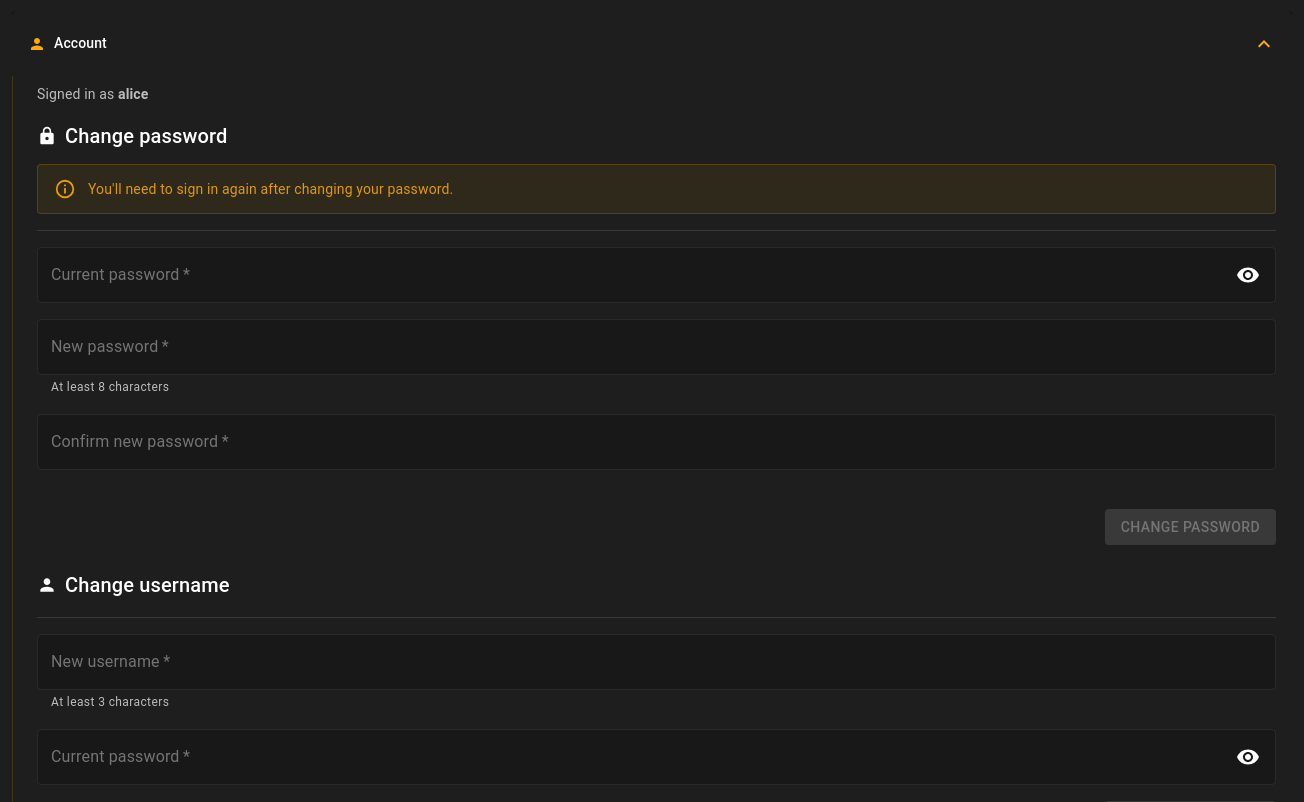
Scenario: AccountAccordion › clicking show password again hides the password again
Click the 1st button named "show password".
click(1248, 275)  # box [1231,258,1265,292]
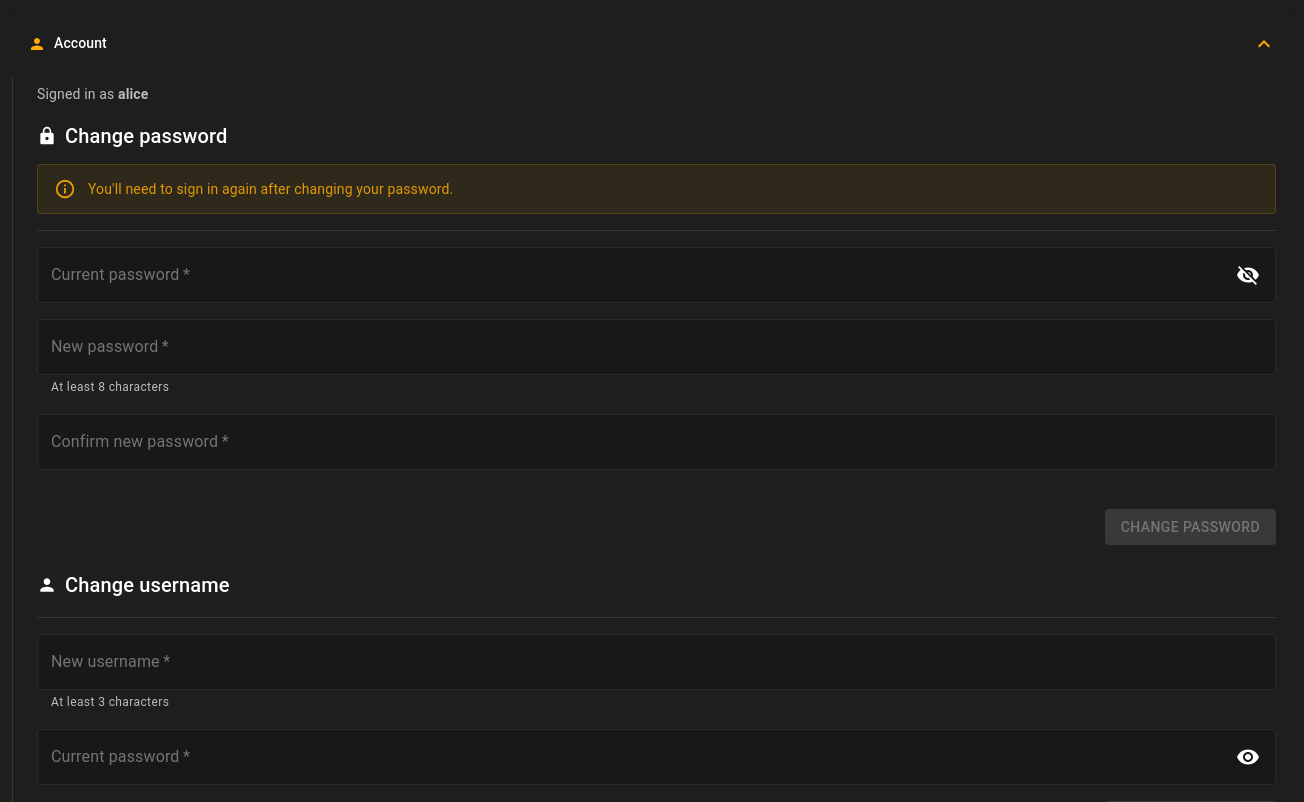
Click the button named "hide password".
click(1248, 275)  # box [1231,258,1265,292]
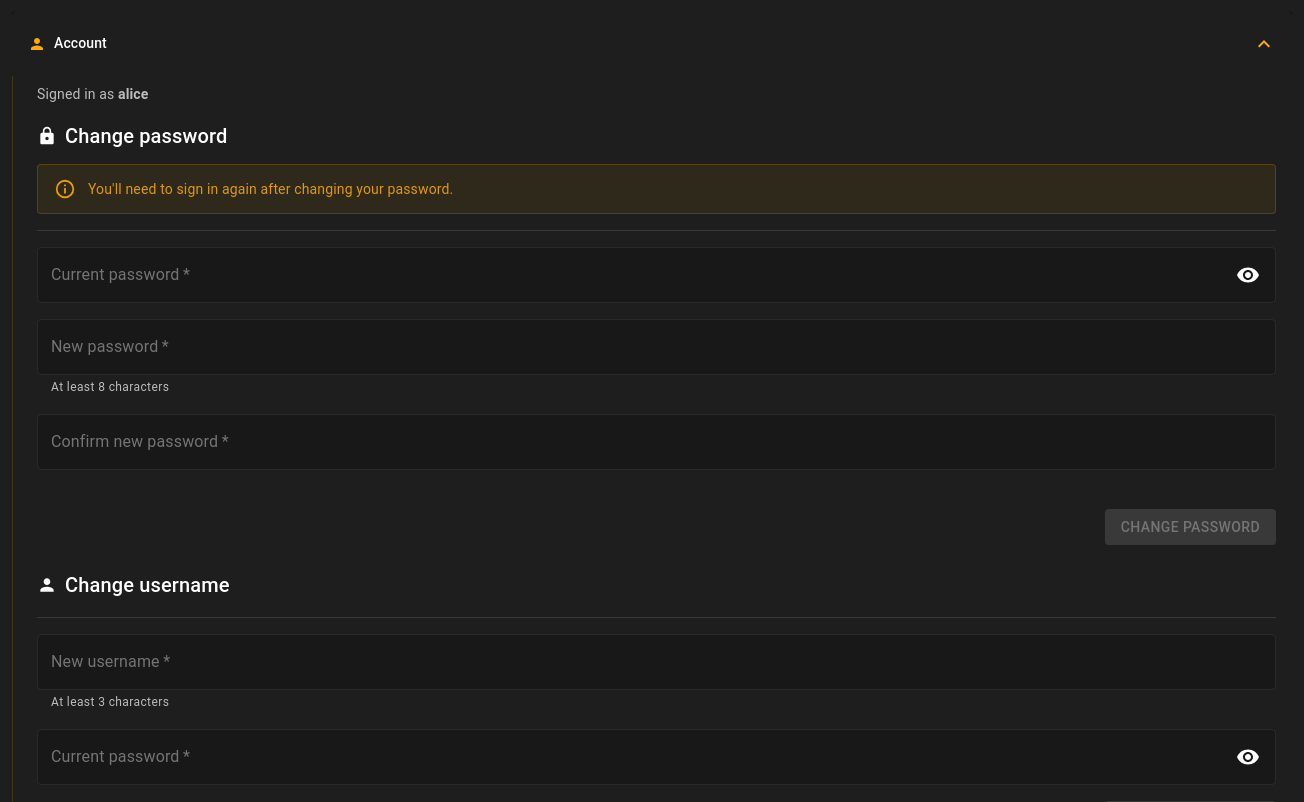
Expected: the 1st button named "show password" is shown, [1231,258,1265,292]
